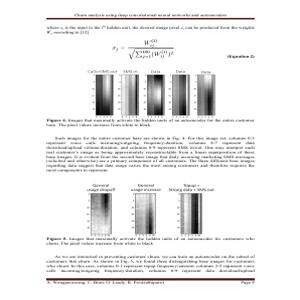diagram: (73, 68, 249, 119), (77, 180, 222, 236)
text: (42, 119, 257, 174), (43, 24, 261, 64), (42, 236, 257, 276)
